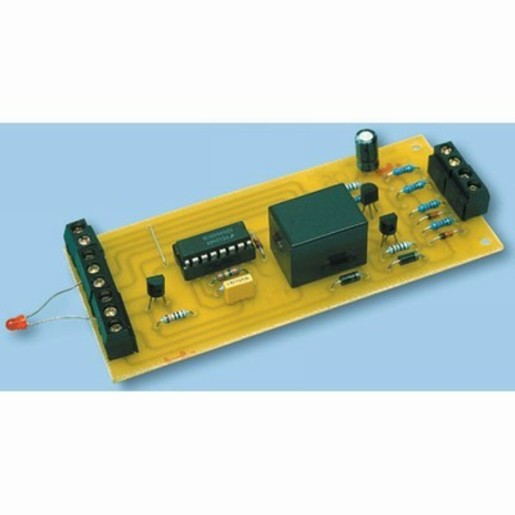capacitor: (355, 128, 381, 174)
resistor: (160, 310, 193, 322), (216, 268, 243, 281), (417, 199, 441, 213), (390, 165, 416, 177), (431, 218, 454, 230), (403, 181, 426, 193), (387, 242, 412, 253)
